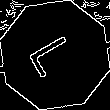L_NE: (26, 29, 84, 81)
